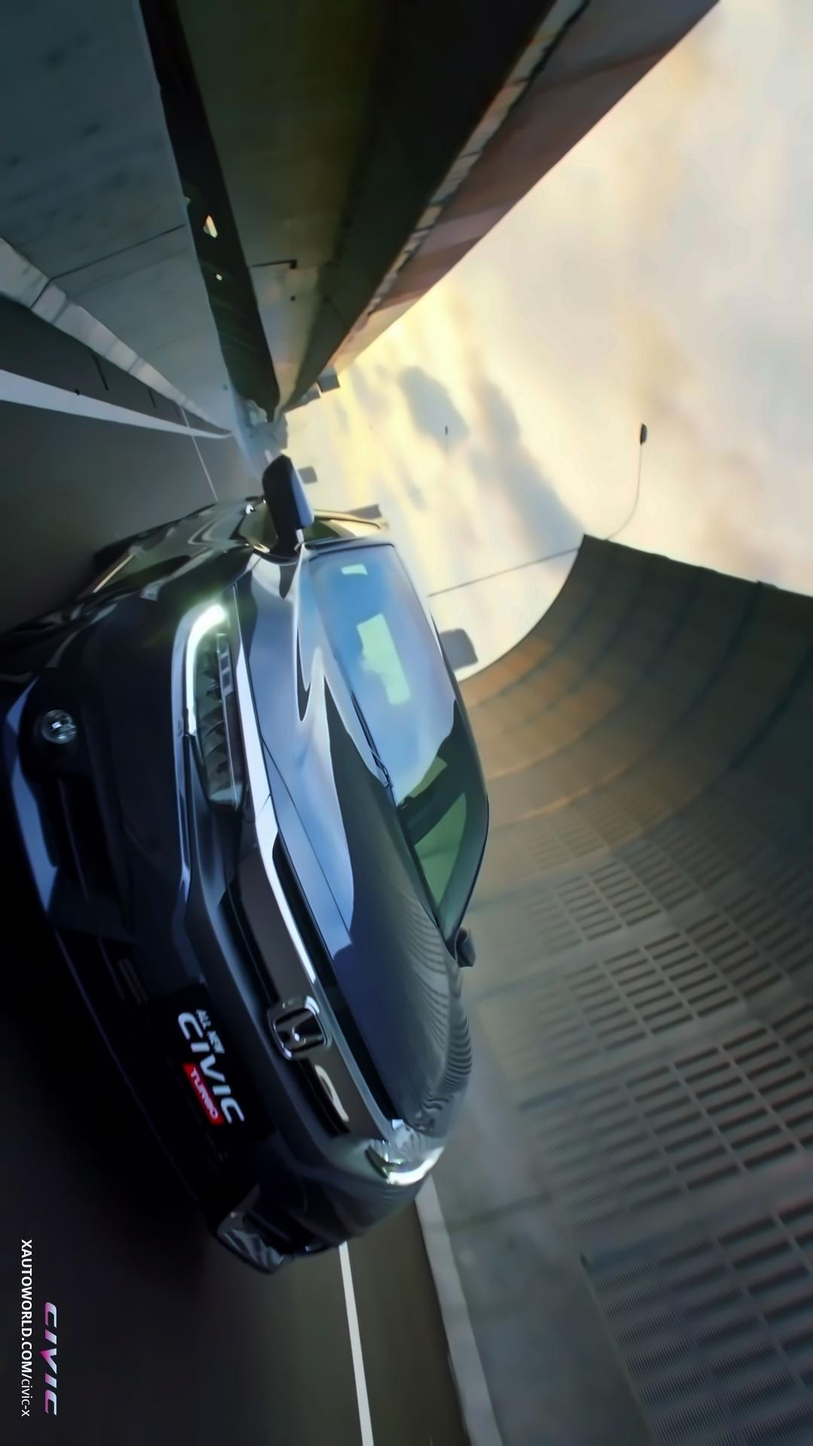Car hood: (232, 529, 478, 1145)
Front bumper: (5, 600, 344, 1281)
Headlight - -L-: (349, 1109, 456, 1190)
Headlight - -R-: (170, 589, 259, 812)
Side mirror - -L-: (443, 922, 496, 988)
Side mirror - -R-: (249, 443, 324, 566)
